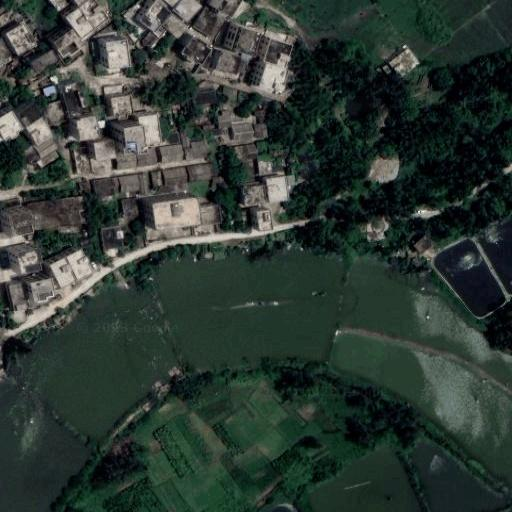building: (27, 196, 89, 231), (152, 197, 203, 232), (18, 102, 56, 145), (60, 79, 91, 122), (212, 47, 251, 79), (5, 22, 37, 55), (193, 9, 224, 41), (264, 38, 295, 69), (182, 35, 213, 66), (53, 29, 84, 60), (390, 47, 421, 78), (66, 8, 96, 40), (259, 64, 289, 95), (50, 258, 79, 290), (105, 37, 132, 71), (0, 109, 25, 145), (66, 249, 94, 281), (233, 27, 262, 57), (15, 247, 46, 275), (138, 115, 163, 148), (72, 144, 96, 178), (406, 226, 435, 254), (29, 278, 58, 305), (9, 283, 32, 316), (111, 93, 138, 121), (10, 212, 36, 239), (32, 49, 60, 74), (267, 174, 291, 202), (34, 135, 61, 159), (76, 115, 100, 141), (101, 224, 125, 249), (234, 159, 258, 184), (183, 139, 210, 161), (120, 198, 143, 223), (162, 167, 189, 188), (164, 14, 188, 37), (159, 143, 185, 164), (0, 37, 17, 69), (126, 127, 147, 152), (187, 164, 216, 182), (235, 143, 261, 163), (242, 186, 266, 207), (230, 121, 254, 142), (119, 174, 141, 196), (200, 205, 224, 225), (92, 139, 115, 158), (256, 210, 275, 232), (37, 151, 59, 170), (135, 150, 158, 168), (94, 178, 115, 197), (191, 90, 217, 105), (115, 153, 137, 170), (258, 156, 274, 178), (92, 158, 117, 171), (138, 173, 150, 197), (150, 171, 164, 190), (143, 32, 159, 48), (256, 122, 270, 139), (154, 24, 168, 39), (287, 172, 298, 189), (112, 177, 121, 194)
